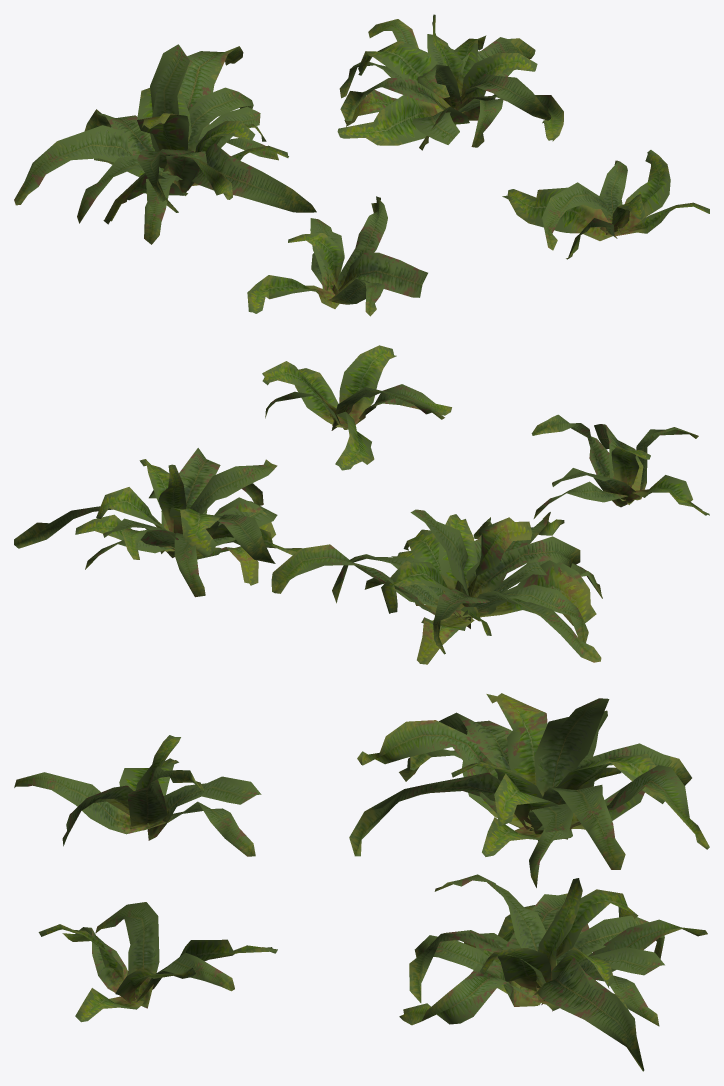
The model's file is ferns.gltf.
3 views of the same model, one above another, from view 1: azimuth 30°, elevation 25°; view 2: azimuth 150°, elevation 25°; view 3: azimuth 270°, elevation 25° (orthographic). The views are drawn at different scales.
Visible parts, largest first — view 1: fern_02_b, fern_02_c, fern_02_d, fern_02_a; view 2: fern_02_b, fern_02_c, fern_02_d, fern_02_a; view 3: fern_02_b, fern_02_c, fern_02_a, fern_02_d.
Boxes of the visible parts, left/top/right/bottom form: fern_02_b: left=14, top=44, right=316, bottom=244; fern_02_c: left=337, top=14, right=563, bottom=150; fern_02_d: left=502, top=150, right=709, bottom=259; fern_02_a: left=247, top=196, right=427, bottom=316; fern_02_b: left=271, top=509, right=602, bottom=664; fern_02_c: left=14, top=448, right=301, bottom=597; fern_02_d: left=262, top=345, right=451, bottom=470; fern_02_a: left=531, top=414, right=709, bottom=518; fern_02_b: left=349, top=693, right=709, bottom=887; fern_02_c: left=399, top=874, right=707, bottom=1071; fern_02_a: left=14, top=735, right=261, bottom=856; fern_02_d: left=38, top=902, right=277, bottom=1022.
Size of the model in its own units: 1.97 by 0.4277 by 1.72.
Materials: 1 (1 with a texture image).
